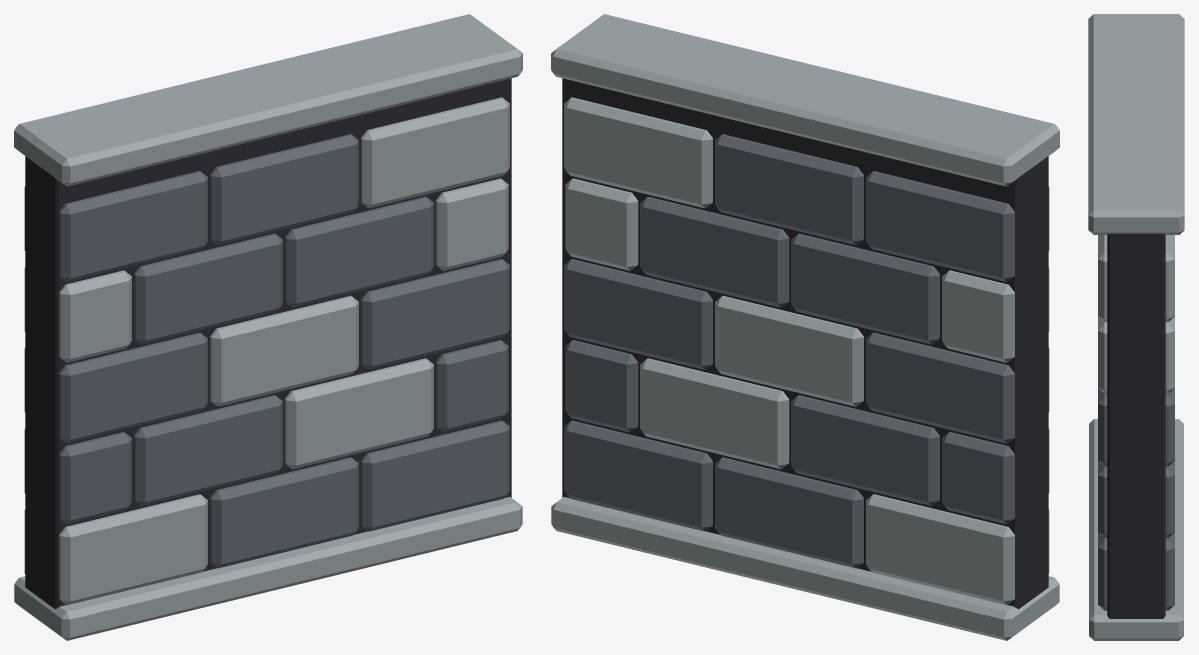
The model's file is 02_Masonry_Wall.glb.
3 renders of one model, left to right at view 1: azimuth 30°, elevation 25°; view 2: azimuth 150°, elevation 25°; view 3: azimuth 270°, elevation 25°, orthographic. The views are drawn at different scales.
Visible parts, largest first — view 1: 02_Masonry_Wall__Body; view 2: 02_Masonry_Wall__Body; view 3: 02_Masonry_Wall__Body.
Part boxes in pixels (x1,y1,x2,y2): 02_Masonry_Wall__Body: [14, 14, 522, 640]; 02_Masonry_Wall__Body: [551, 14, 1059, 640]; 02_Masonry_Wall__Body: [1088, 14, 1184, 640].
Size of the model in its own units: 4 by 4 by 0.81.
1 material, 1 textured.
